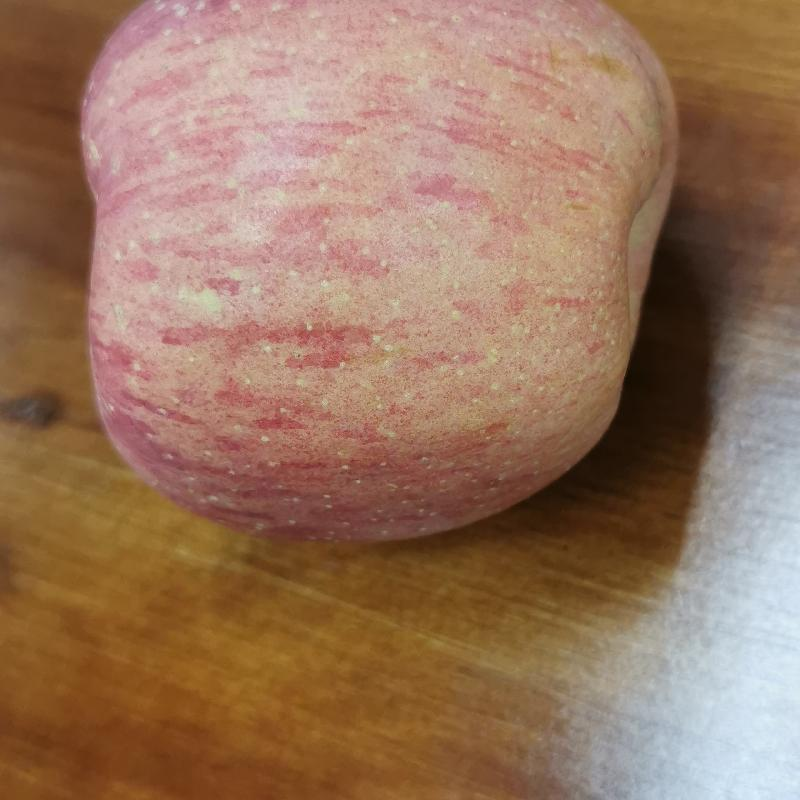apples: (63, 4, 685, 548)
